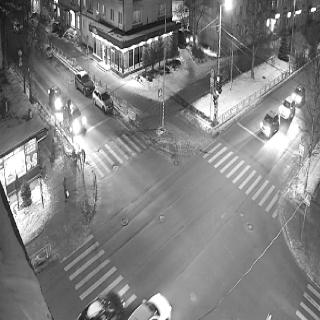small-vehicle: (78, 282, 120, 320), (127, 294, 177, 318), (64, 107, 89, 130), (95, 86, 111, 120), (262, 100, 274, 138), (75, 72, 95, 88), (48, 88, 67, 104), (278, 99, 299, 112), (294, 78, 301, 105)
